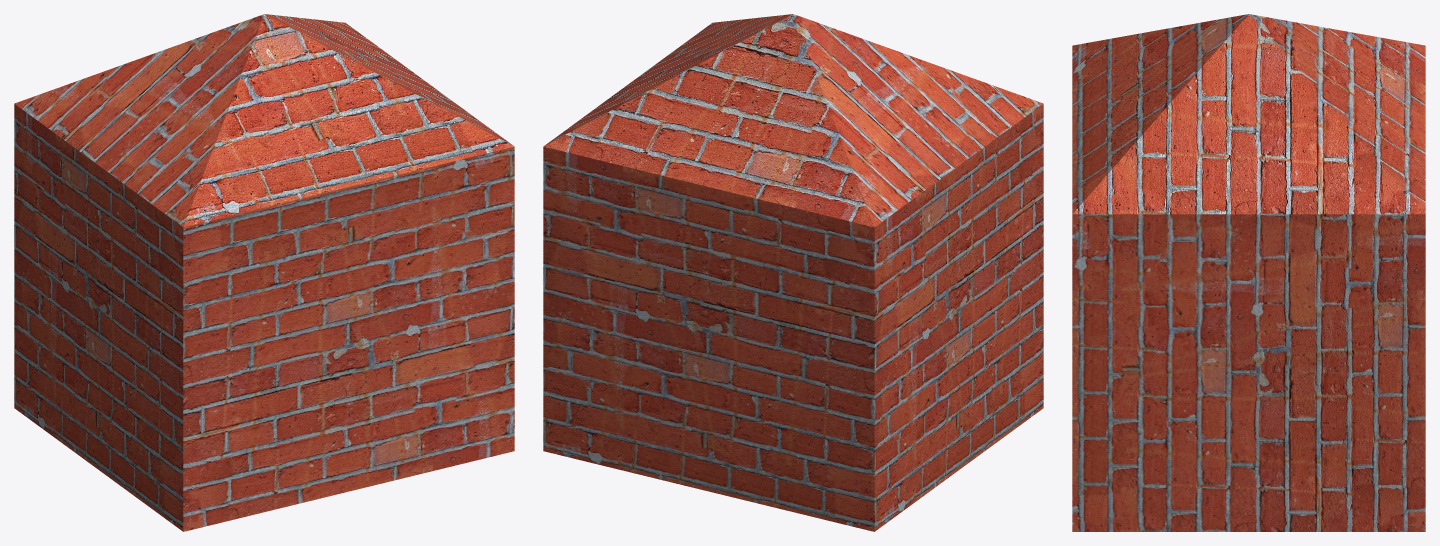
The model's file is Top_single.fbx.
The picture shows the model from 3 angles, left to right: view 1: azimuth 30°, elevation 25°; view 2: azimuth 150°, elevation 25°; view 3: azimuth 270°, elevation 25°; orthographic projection. The views are drawn at different scales.
Parts seen in each view (by area): view 1: PreSet.005; view 2: PreSet.005; view 3: PreSet.005.
Part boxes in pixels (box(x1,y1,x2,y2)): PreSet.005: box(14, 14, 514, 531); PreSet.005: box(543, 14, 1043, 531); PreSet.005: box(1072, 14, 1425, 531).
Bounding box in the file's own units: 201 × 273 × 228.
